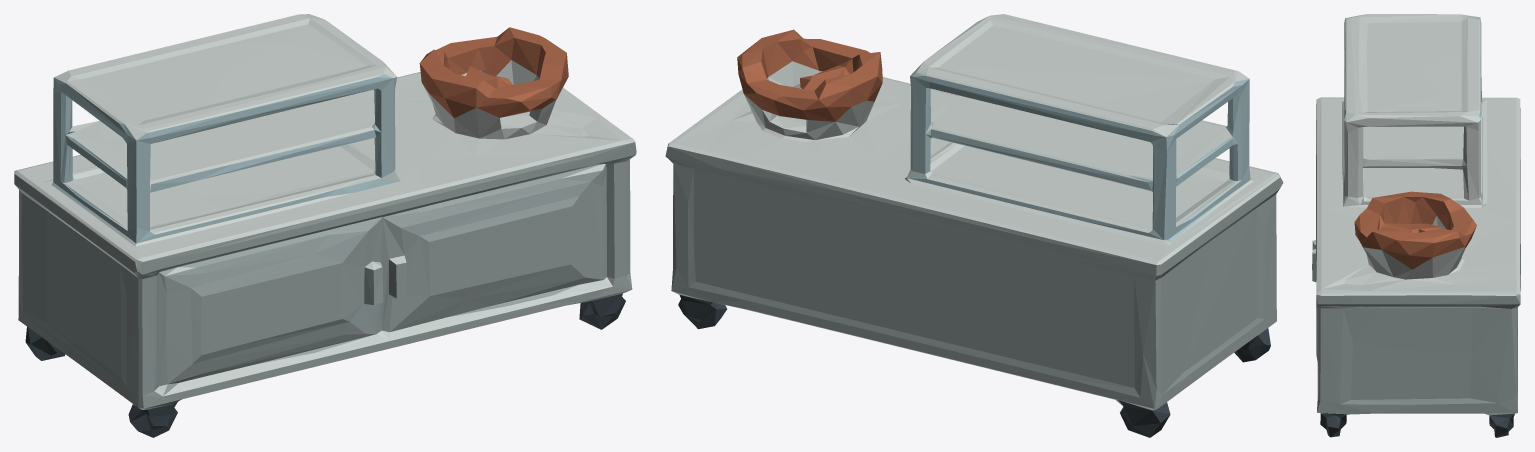
Rendered from food_cart_0.glb.
3 views of the same model, side by side, from view 1: azimuth 30°, elevation 25°; view 2: azimuth 150°, elevation 25°; view 3: azimuth 270°, elevation 25° (orthographic). The views are drawn at different scales.
Parts seen in each view (by area): view 1: food_cart_0; view 2: food_cart_0; view 3: food_cart_0.
Boxes of the visible parts, box(x1,y1,x2,y2) form: food_cart_0: box(14, 14, 636, 437); food_cart_0: box(665, 14, 1283, 437); food_cart_0: box(1312, 14, 1520, 437).
Bounding box in the file's own units: 2.8 × 1.6 × 1.25.
